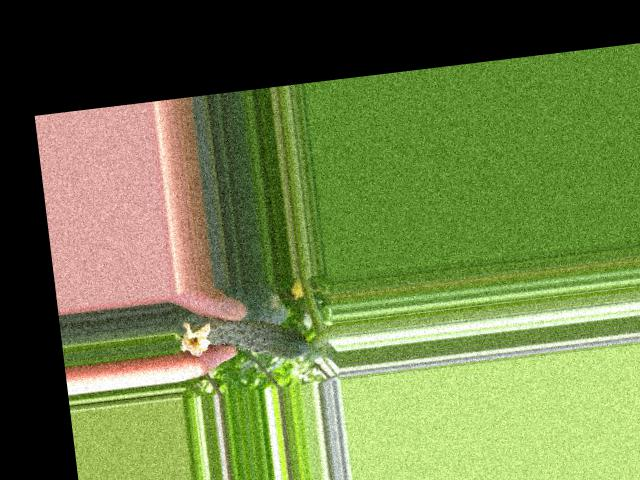cucumber: (179, 308, 309, 371)
